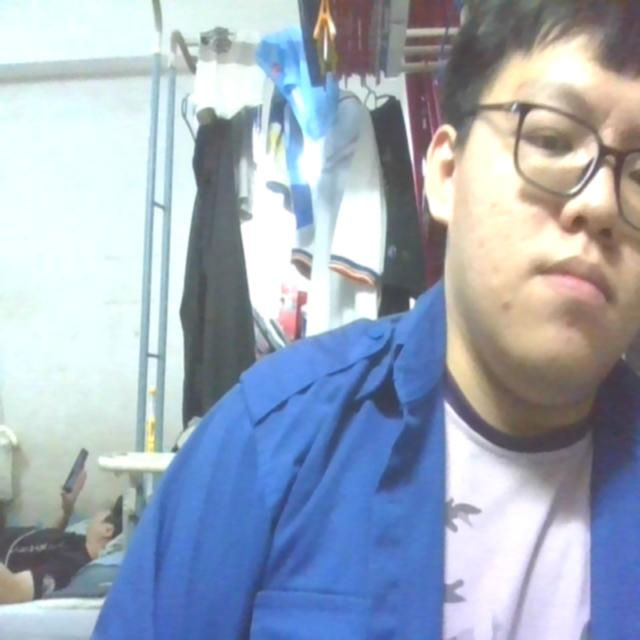person_with_labcoat: (92, 0, 639, 639)
